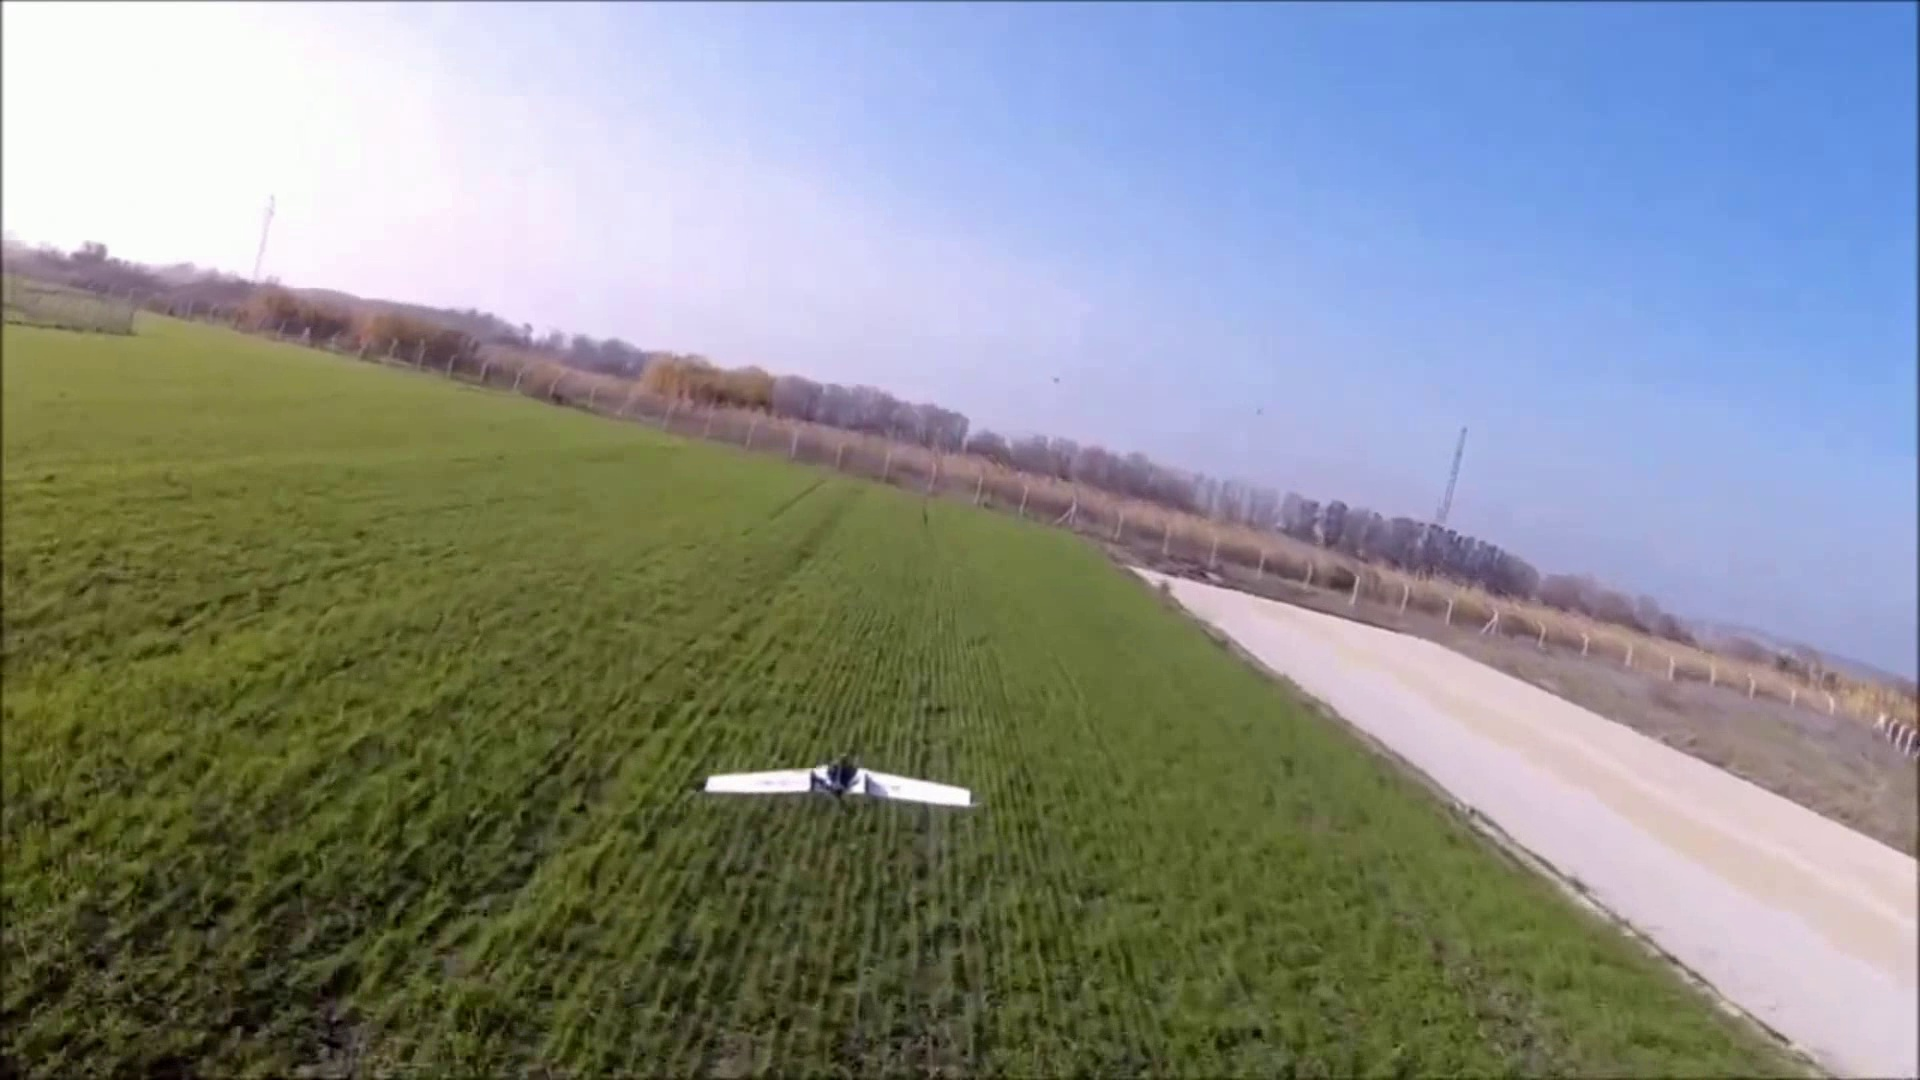airplane: (703, 760, 975, 810)
